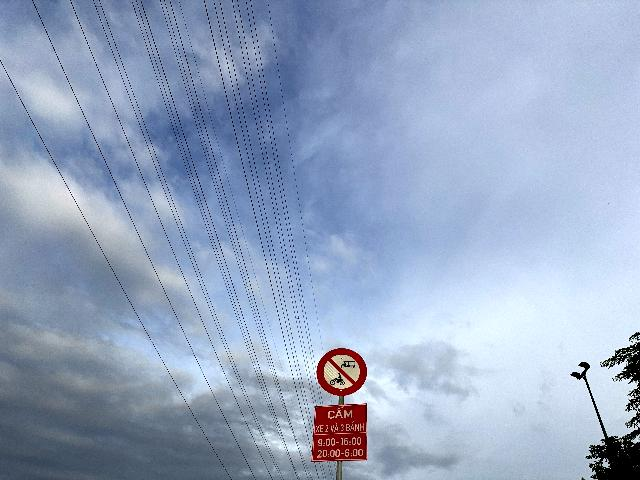cam-xe-2-banh-3-banh: (316, 348, 367, 396)
